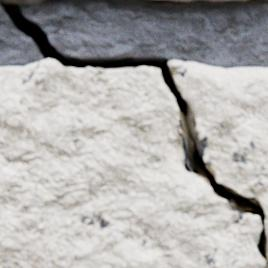brick: (1, 0, 46, 5), (147, 0, 248, 2), (110, 0, 135, 1)
broken_brick: (0, 60, 265, 267), (168, 61, 267, 249)
crack: (0, 0, 267, 267)
